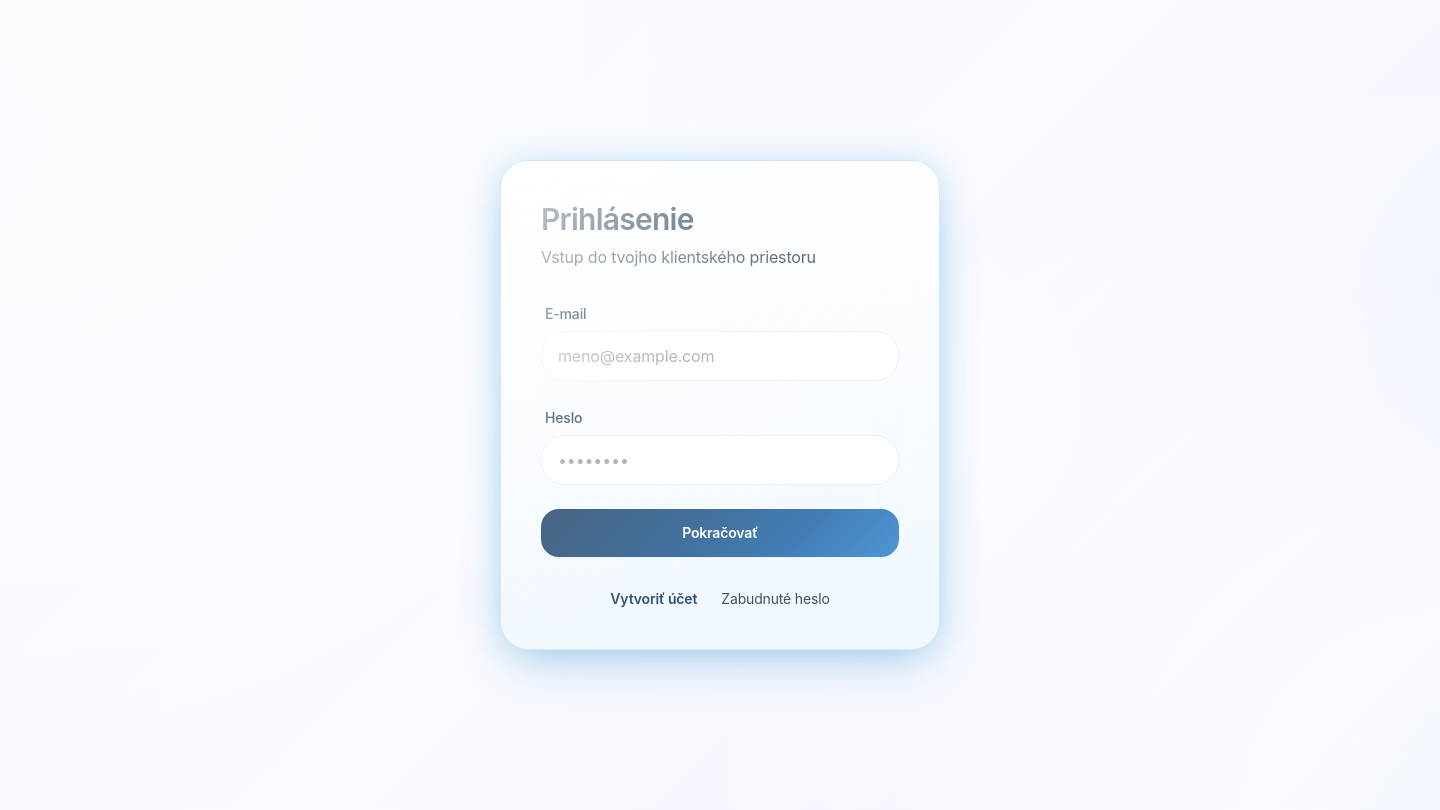
Scenario: Auth page › shows login error
The width and height of the screenshot is (1440, 810).
In the field labelled "E-mail": (720, 356) [541,331,899,381], type "test@example.com"
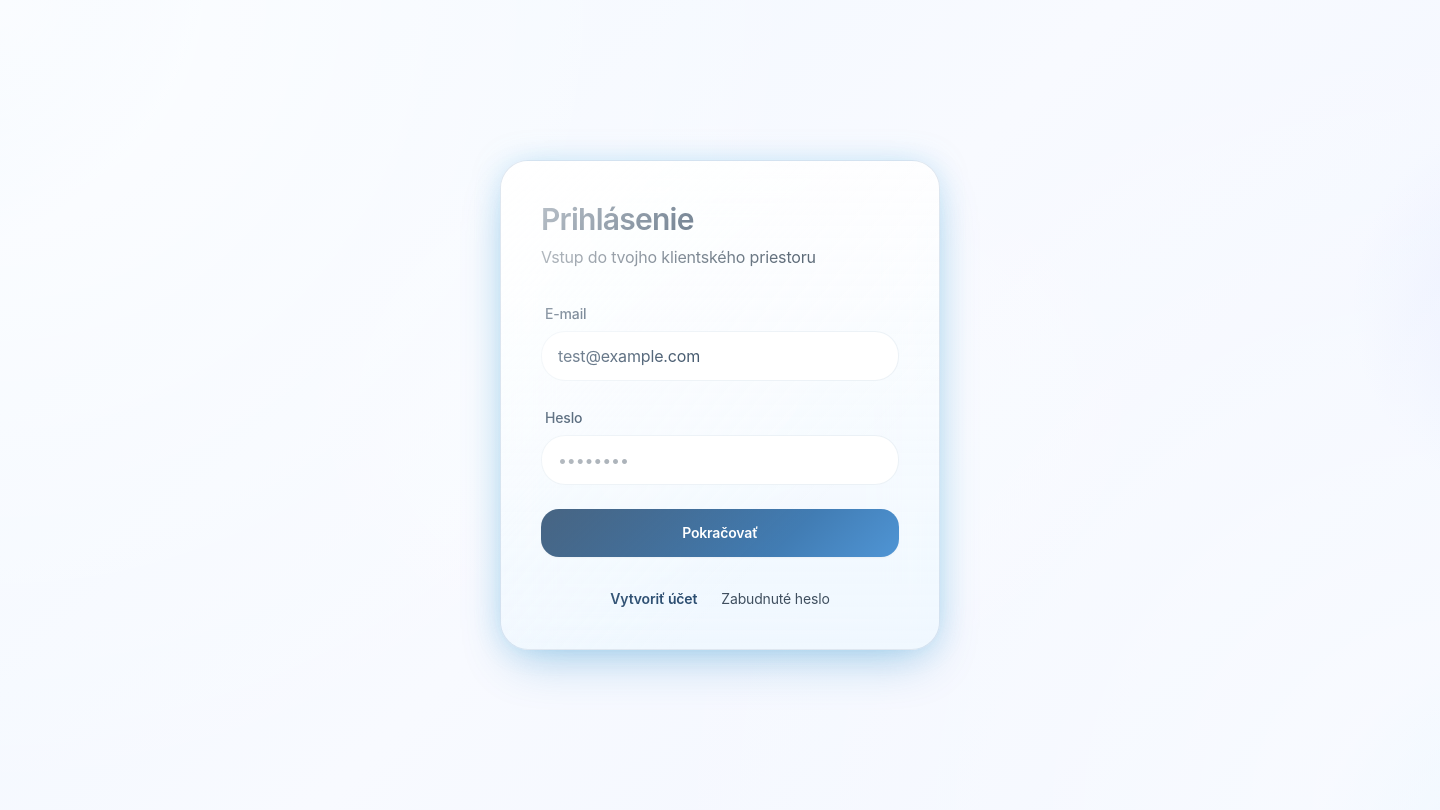
In the password field labelled "Heslo": (720, 460) [541,435,899,485], type "wrongpass"
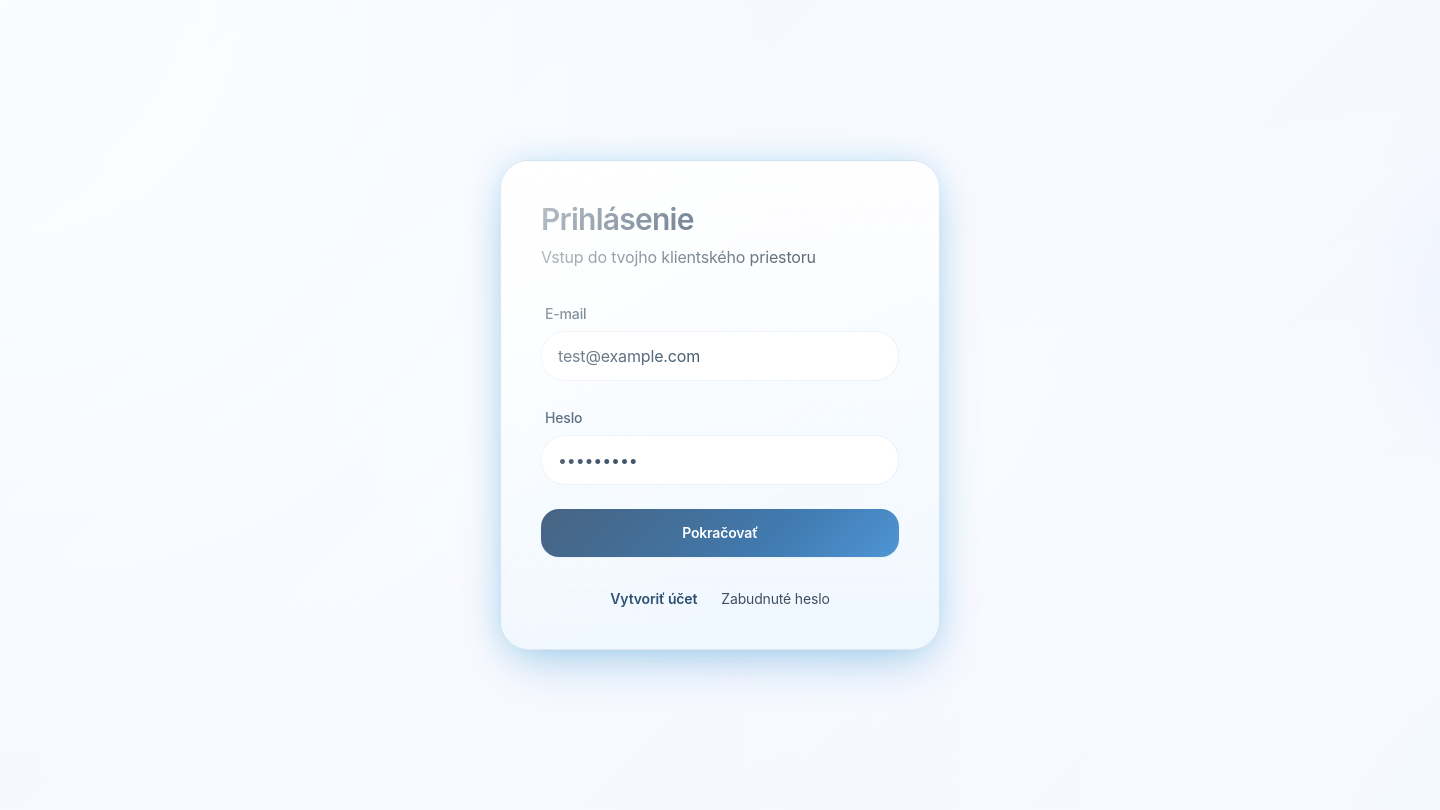
Click the button "Pokračovať": (720, 533) [541,509,899,557]
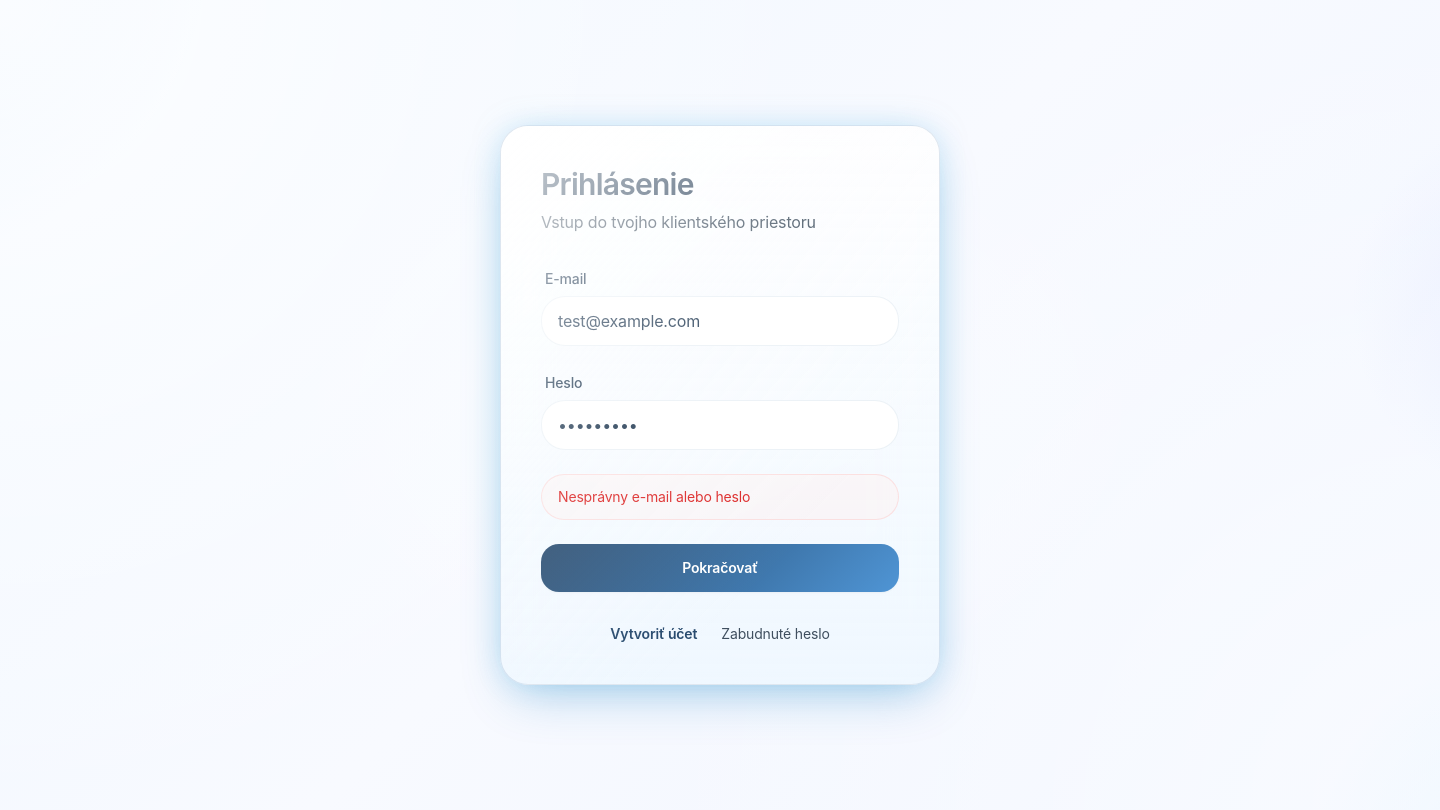
expect the text "Nesprávny e-mail alebo heslo" is shown: met, box [541,474,899,520]
